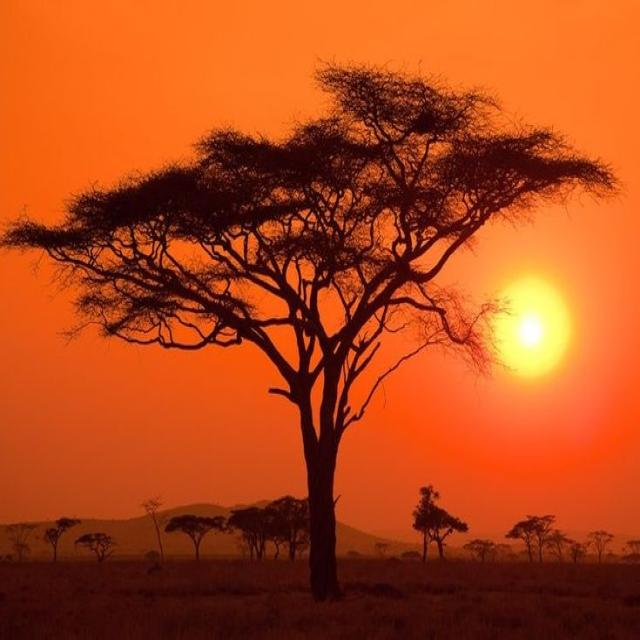Acacia: (60, 101, 555, 480)
